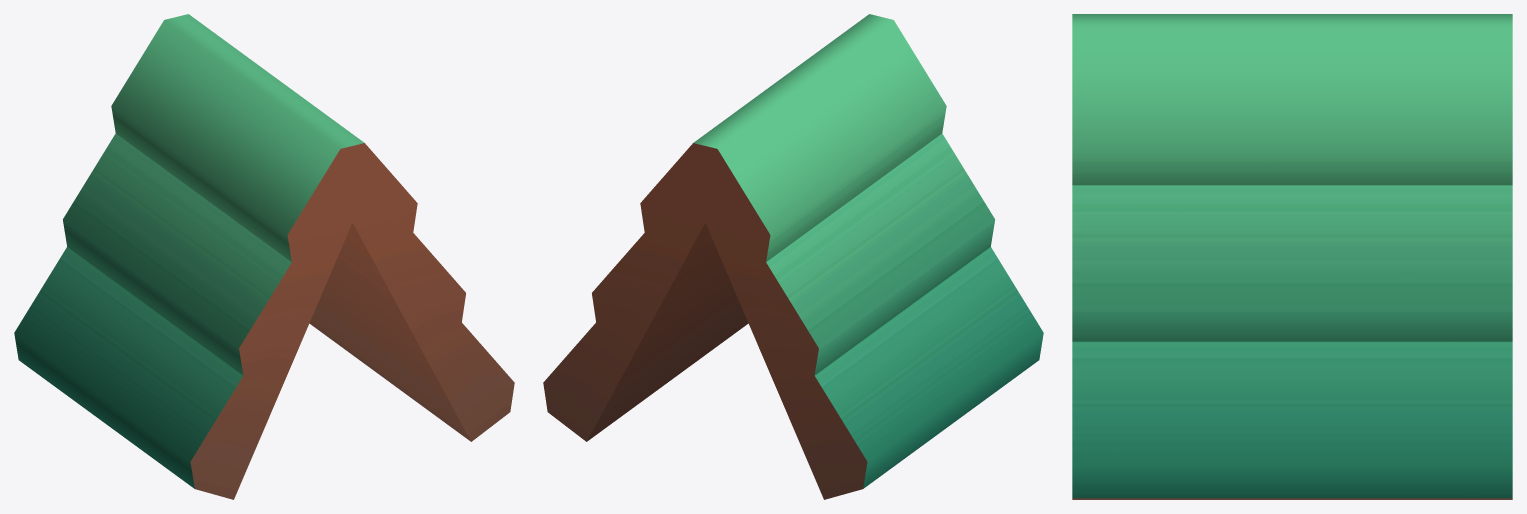
The model's file is cabin-roof-point.glb.
The picture shows the model from 3 angles, left to right: view 1: azimuth 30°, elevation 25°; view 2: azimuth 150°, elevation 25°; view 3: azimuth 270°, elevation 25°; orthographic projection. The views are drawn at different scales.
Visible parts, largest first — view 1: cabin-roof-point; view 2: cabin-roof-point; view 3: cabin-roof-point.
Boxes of the visible parts, x1,y1,x2,y2 form: cabin-roof-point: (14, 14, 514, 499); cabin-roof-point: (543, 14, 1043, 499); cabin-roof-point: (1072, 14, 1512, 499).
Bounding box in the file's own units: 1.49 × 1.42 × 1.4.
Materials: 1 (1 with a texture image).
